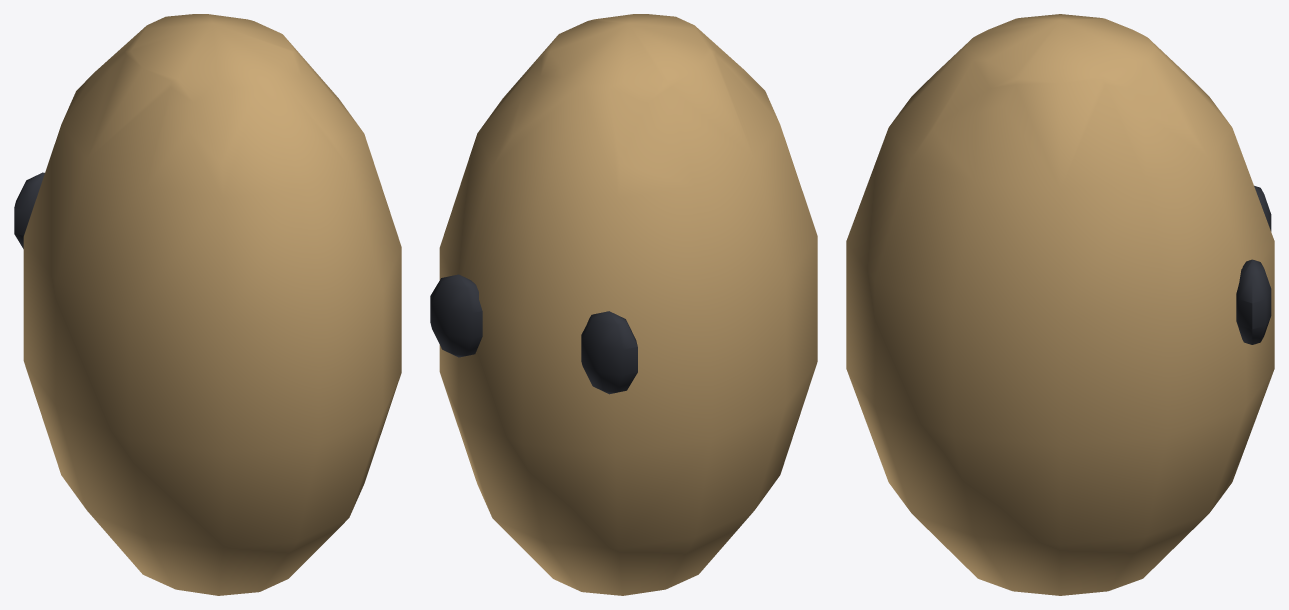
File: gorehulk_d_head.obj
3 views of the same model, side by side, from view 1: azimuth 30°, elevation 25°; view 2: azimuth 150°, elevation 25°; view 3: azimuth 270°, elevation 25° (orthographic).
Visible parts, largest first — view 1: source_component_000, source_component_001; view 2: source_component_000, source_component_001, source_component_002; view 3: source_component_000, source_component_002.
Boxes of the visible parts, x1,y1,x2,y2 form: source_component_000: (23,14,401,595); source_component_001: (14,172,44,248); source_component_000: (439,14,817,595); source_component_001: (581,311,637,394); source_component_002: (430,274,482,357); source_component_000: (846,14,1274,595); source_component_002: (1236,259,1271,344).
Bounding box in the file's own units: 0.2925 × 0.5 × 0.3412.
